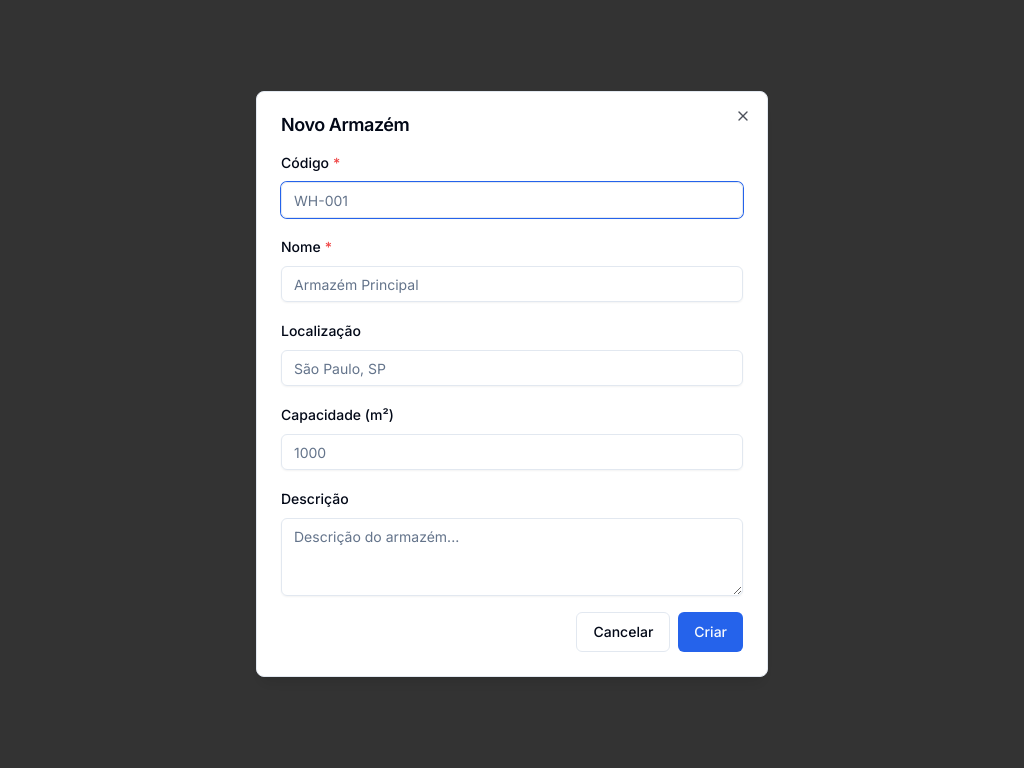
Test: WarehouseForm › exibe erro quando código está vazio no submit
Click the button "Criar" at x=711, y=632, box left=678, top=612, right=743, bottom=652
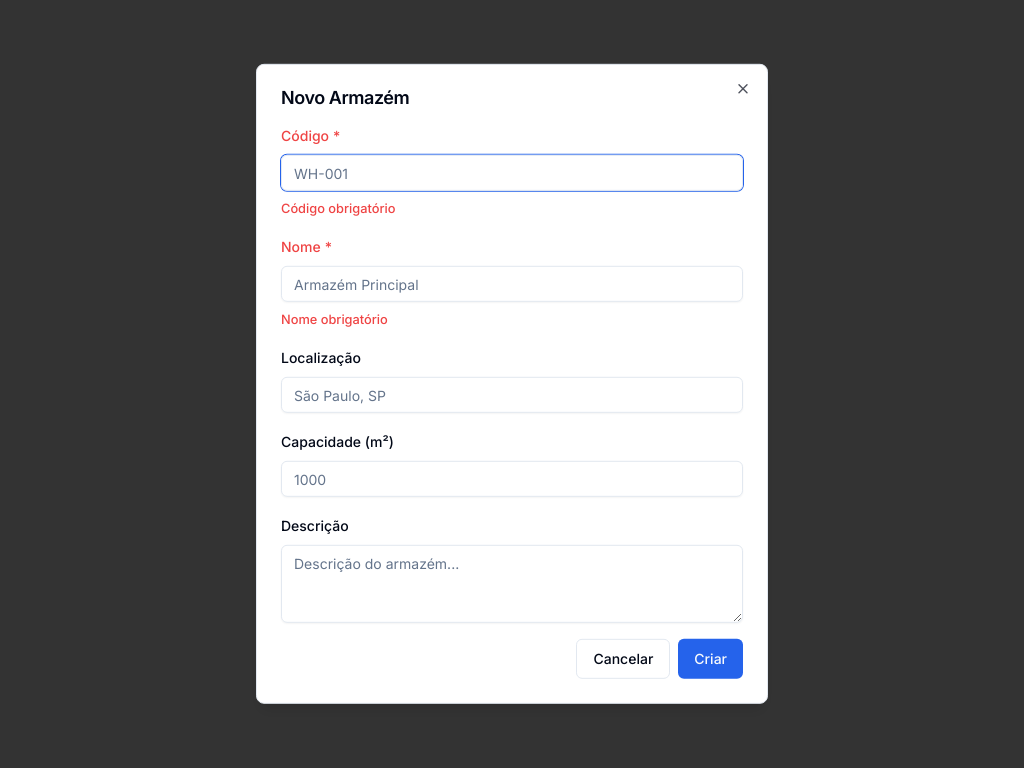
Expected: the text "Código obrigatório" is shown, left=281, top=201, right=395, bottom=216
